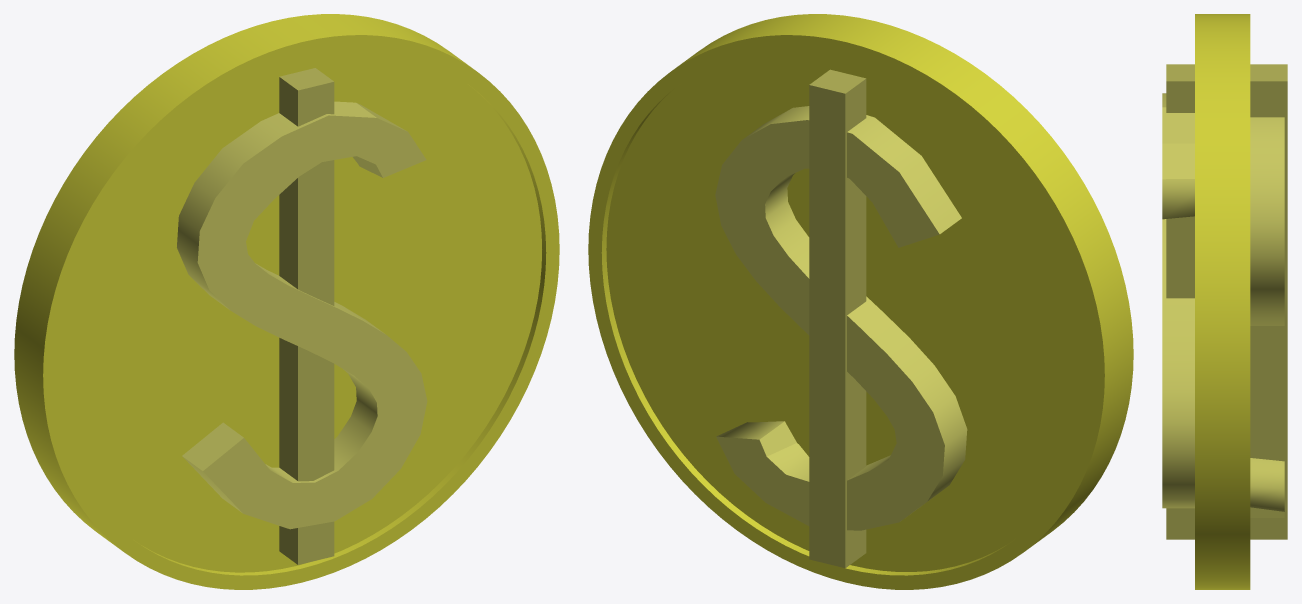
The model's file is coin_portrait.fbx.
3 views of the same model, side by side, from view 1: azimuth 30°, elevation 25°; view 2: azimuth 150°, elevation 25°; view 3: azimuth 270°, elevation 25° (orthographic). The views are drawn at different scales.
Parts seen in each view (by area): view 1: pCylinder1, pCube12, pCube9; view 2: pCylinder1, pCube10, pCube11; view 3: pCylinder1, pCube12, pCube10, pCube11, pCube9.
Boxes of the visible parts, x1,y1,x2,y2 form: pCylinder1: (14, 14, 559, 589); pCube12: (177, 101, 427, 529); pCube9: (279, 68, 334, 564); pCylinder1: (588, 14, 1133, 589); pCube10: (715, 106, 967, 530); pCube11: (809, 69, 866, 568); pCylinder1: (1195, 14, 1250, 589); pCube12: (1162, 93, 1194, 508); pCube10: (1250, 117, 1284, 517); pCube11: (1250, 64, 1287, 539); pCube9: (1166, 64, 1194, 539).
Size of the model in its own units: 14.24 by 14.24 by 3.1.
